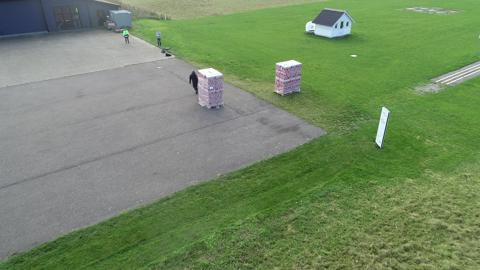RockwoolPallet: (199, 67, 224, 109)
